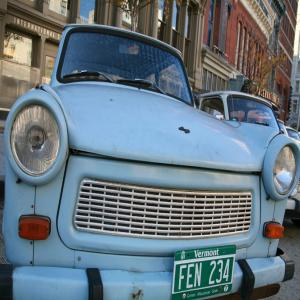Vehicle-registration-plate: (175, 253, 238, 294)
